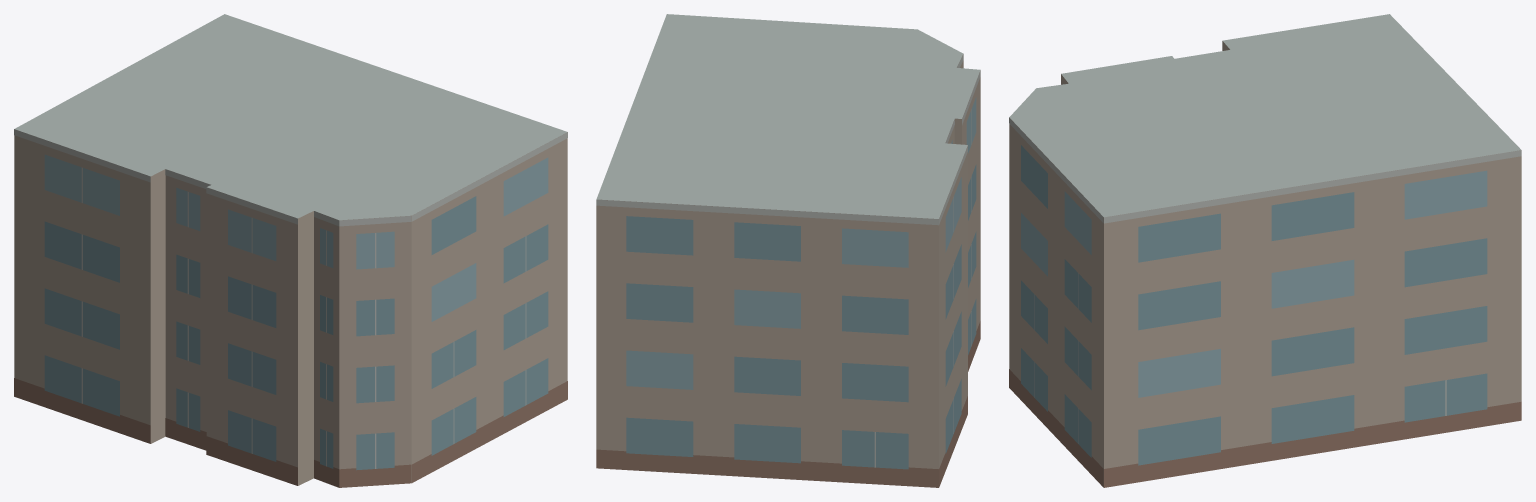
Rendered from survey-upis-32886204.glb.
3 views of the same model, side by side, from view 1: azimuth 30°, elevation 25°; view 2: azimuth 150°, elevation 25°; view 3: azimuth 270°, elevation 25° (orthographic).
Visible parts, largest first — view 1: survey-upis-32886204.tmp; view 2: survey-upis-32886204.tmp; view 3: survey-upis-32886204.tmp.
Part boxes in pixels (bbox=[...]): survey-upis-32886204.tmp: bbox=[14, 14, 567, 487]; survey-upis-32886204.tmp: bbox=[596, 14, 980, 487]; survey-upis-32886204.tmp: bbox=[1009, 14, 1521, 487].
Bounding box in the file's own units: 17.18 × 10.65 × 18.3.
